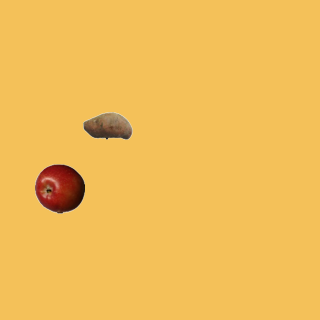Apple Braeburn: (34, 163, 84, 213)
Potato Sweet: (82, 100, 132, 150)
